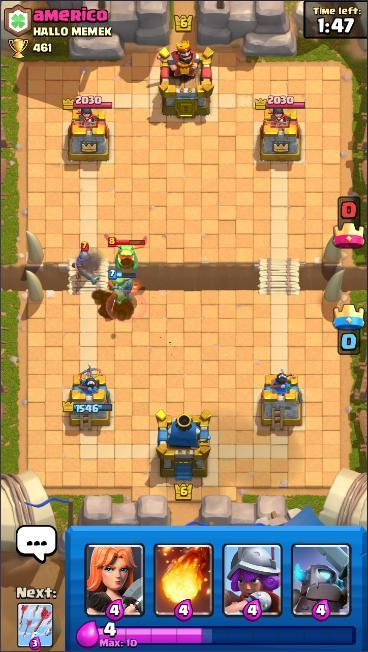ally_brawler: (105, 268, 141, 303)
enemy_baby_dragon: (102, 232, 149, 273)
enemy_musketeer: (73, 240, 102, 286)
